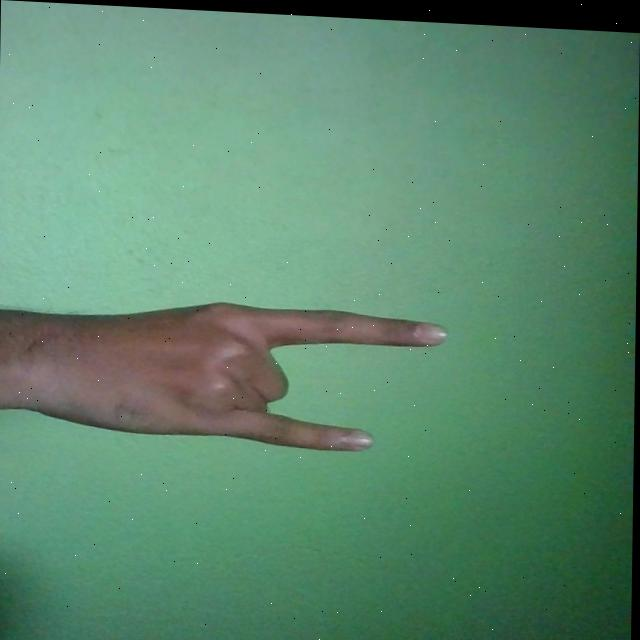Rock On: (1, 288, 450, 450)
